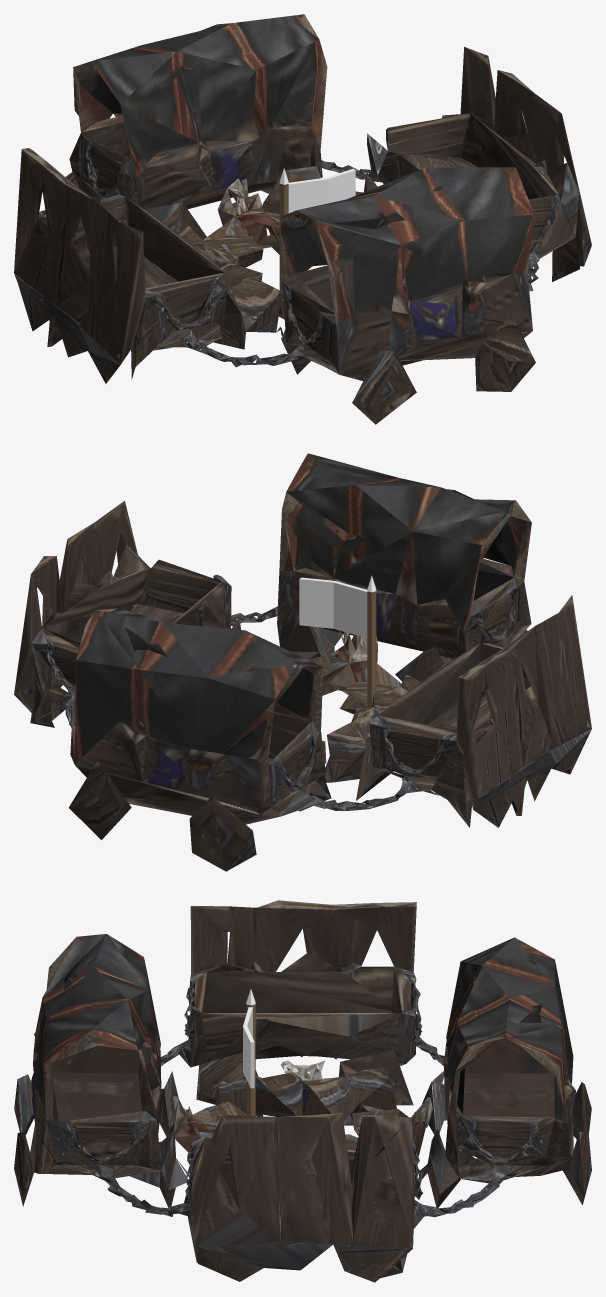
The picture shows the model from 3 angles, top to bottom: view 1: azimuth 30°, elevation 25°; view 2: azimuth 150°, elevation 25°; view 3: azimuth 270°, elevation 25°; orthographic projection.
Parts seen in each view (by area): view 1: steppe_laager, Team_banner; view 2: steppe_laager, Team_banner; view 3: steppe_laager, Team_banner.
Boxes of the visible parts, <box> form: steppe_laager: <box>14,14,591,424</box>; Team_banner: <box>279,167,355,300</box>; steppe_laager: <box>14,453,591,871</box>; Team_banner: <box>299,575,376,707</box>; steppe_laager: <box>14,900,591,1282</box>; Team_banner: <box>243,989,255,1115</box>.
Size of the model in its own units: 1.75 by 0.7062 by 1.88.
3 materials, 1 textured.
